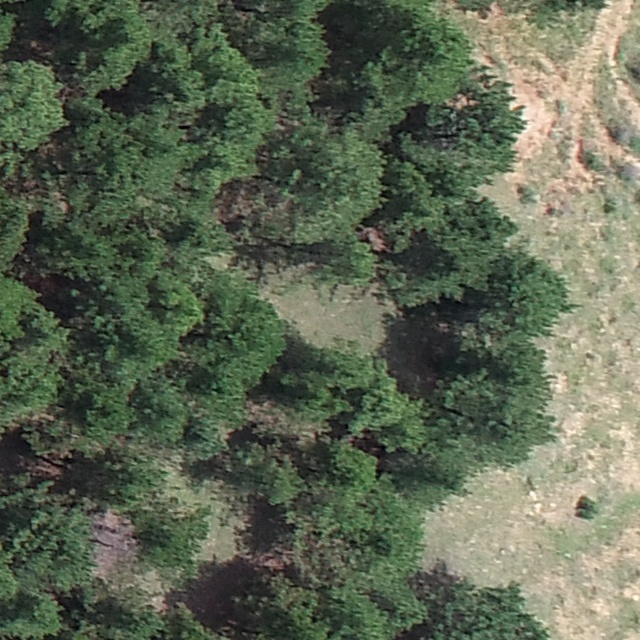unhealthy: (88, 508, 138, 576)
